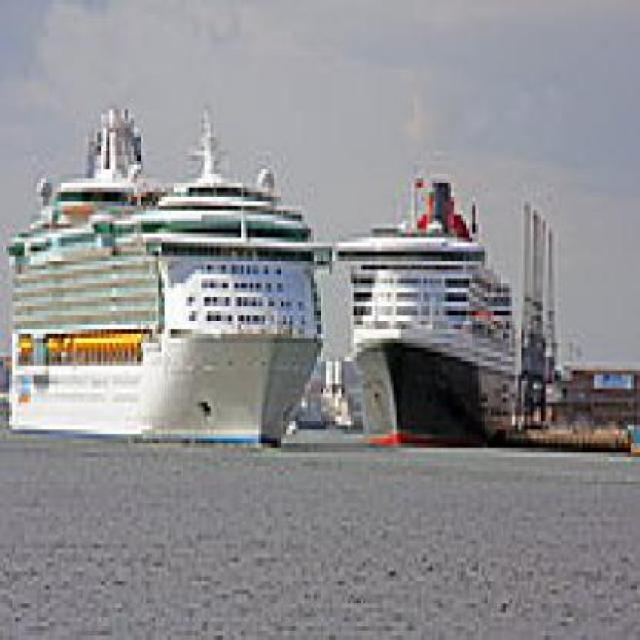cruise: (1, 83, 339, 458), (327, 166, 532, 472)
